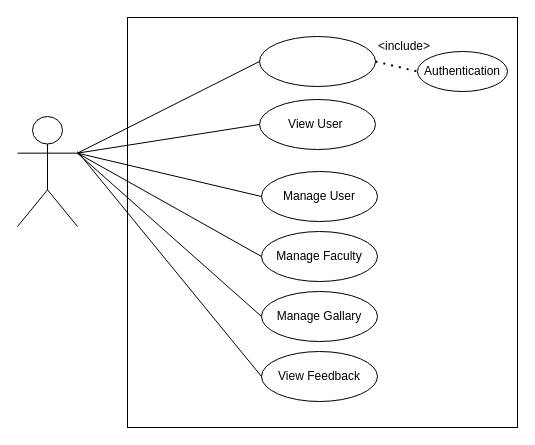
Image size: 535x445. Some labels were removed from this diagram. The centre of each missing label's shape, as x and y in pixels:
Admin: point 47,171
Login: point 317,61
